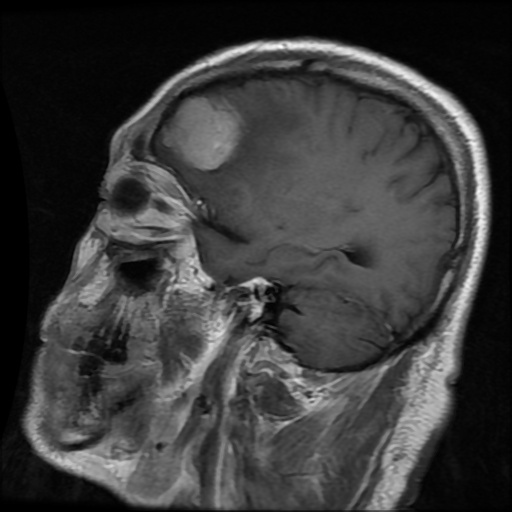meningioma: (162, 93, 245, 171)
